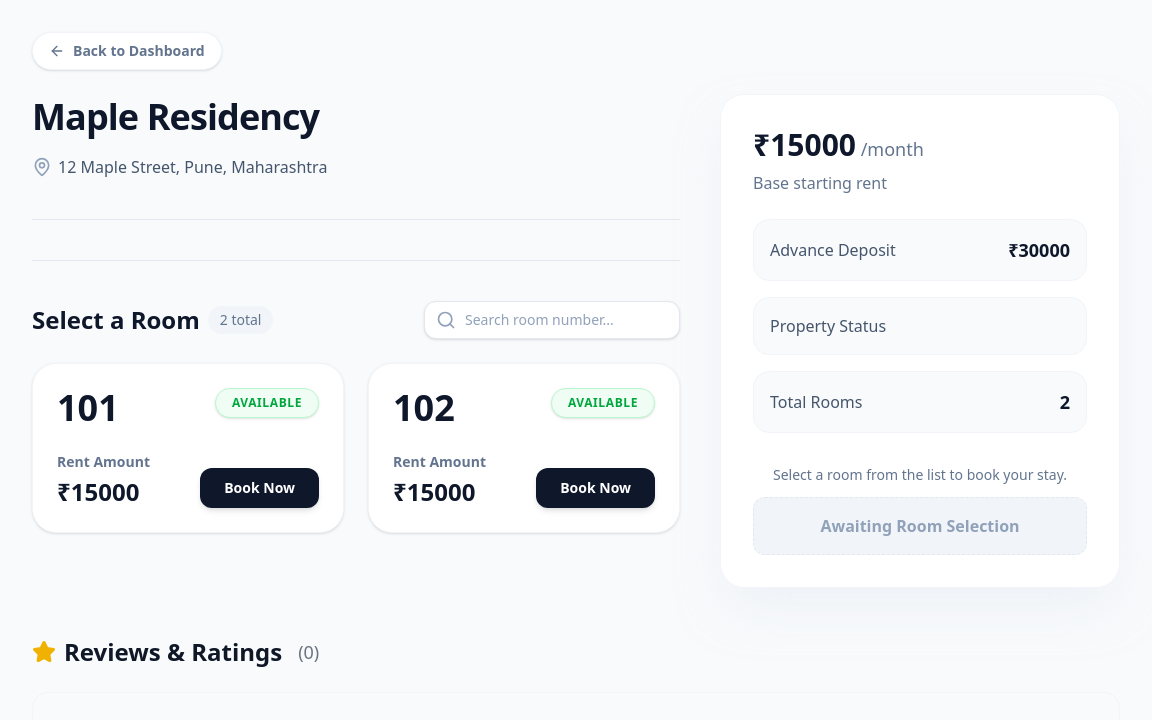
Scenario: PropertyDetails › filters rooms by the search box
Expected: the heading "101" is shown, [57,388,119,428]
Type "102" into the field with placeholder "Search room number...". click: (552, 320)
box: [424,301,680,339]
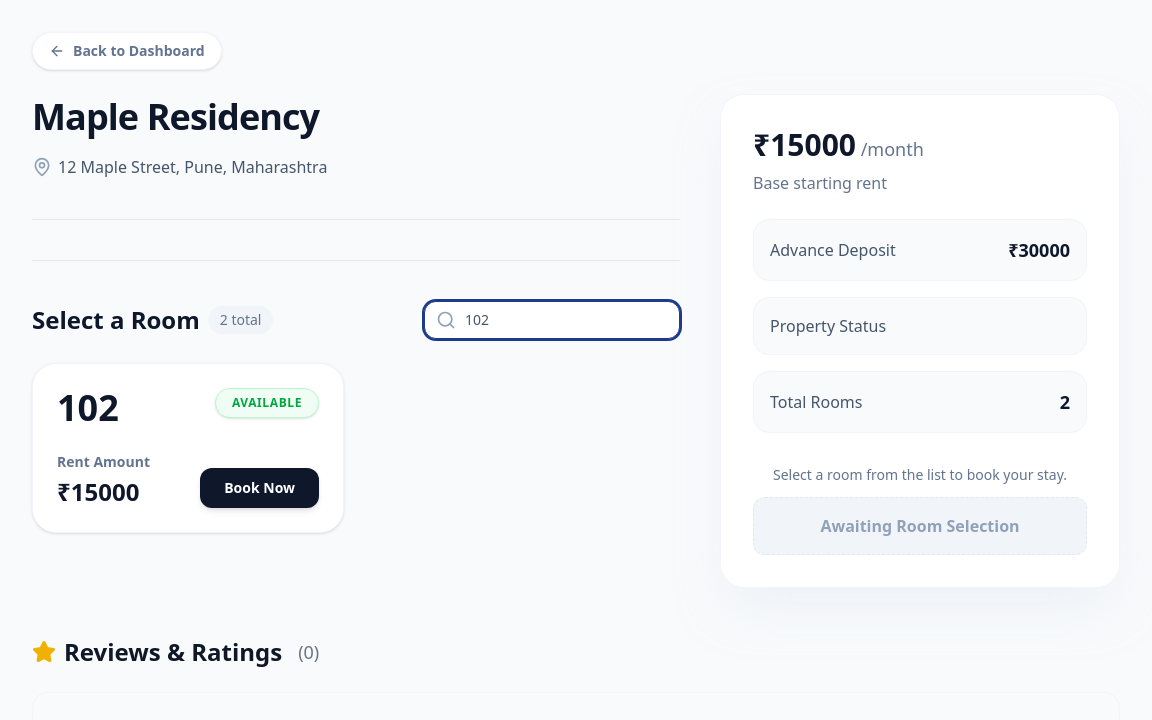
Expected: the heading "102" is shown, [57,388,119,428]
Result: the heading "101" is gone
